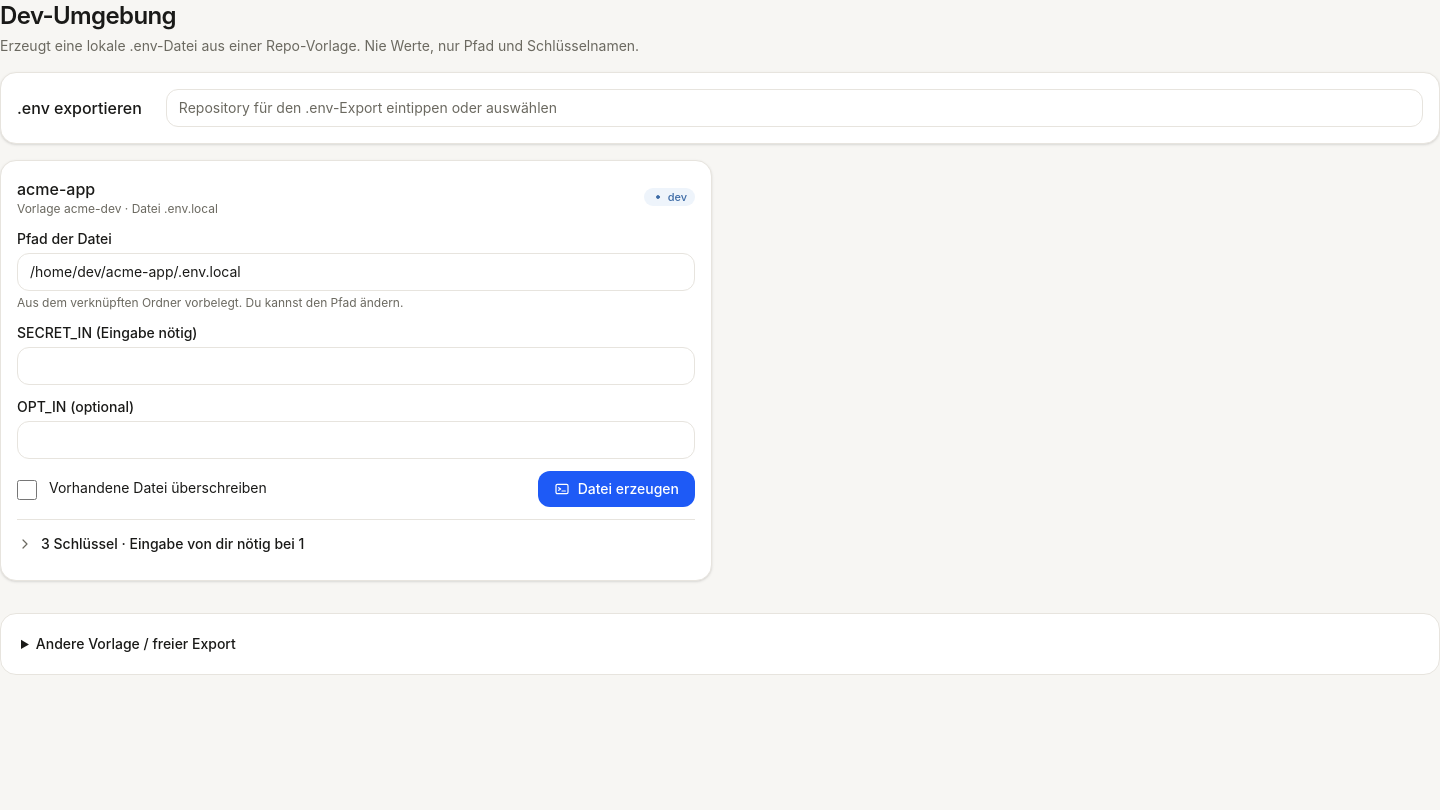
Test: Dev page: template card › writes the file to the linked folder, asking only for prompts and reporting the result
Type "value-for-tests" into the password field labelled "SECRET_IN (Eingabe nötig)" at (356, 366), box [17,347,695,385]
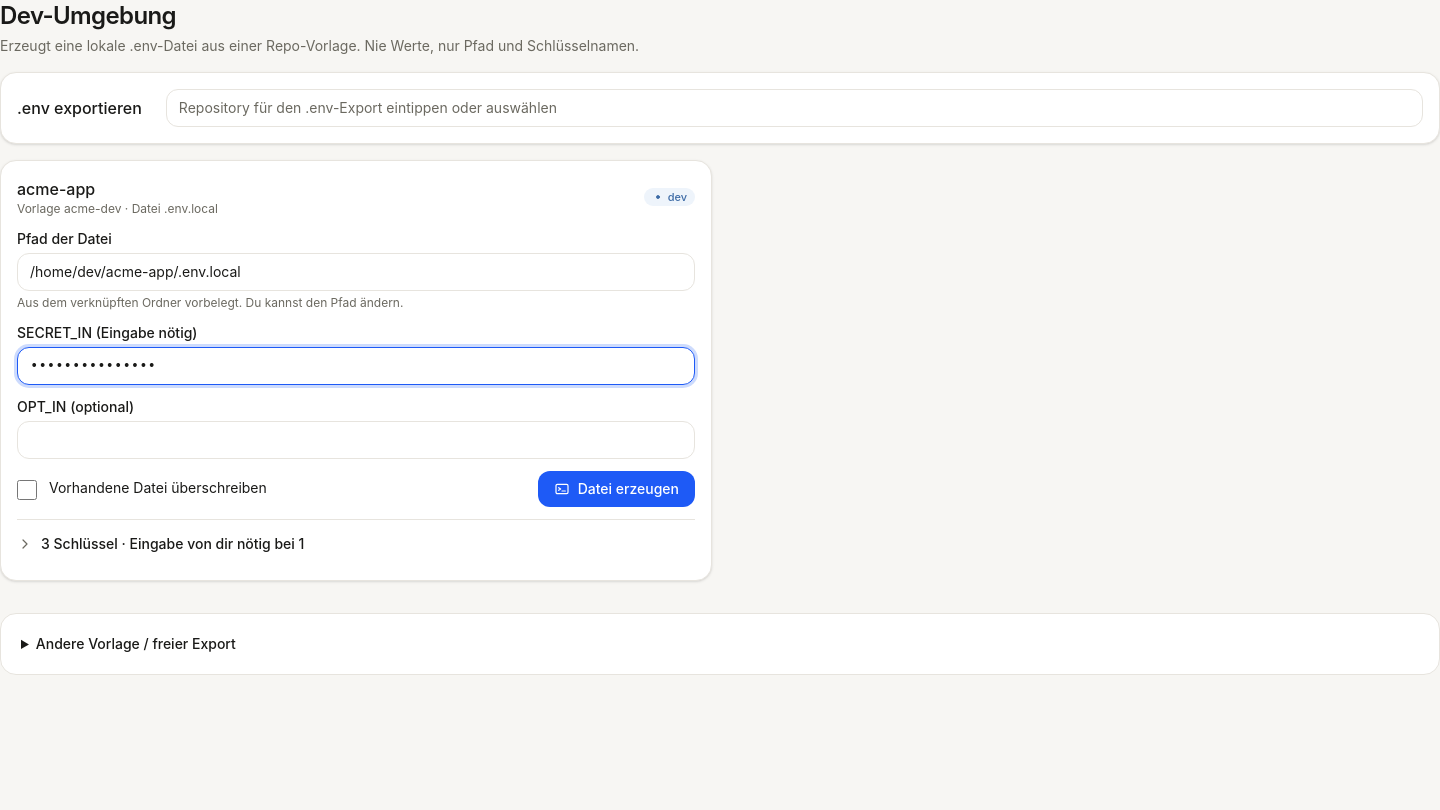
Click the checkbox labelled "Vorhandene Datei überschreiben" at (27, 490), box [17,480,37,500]
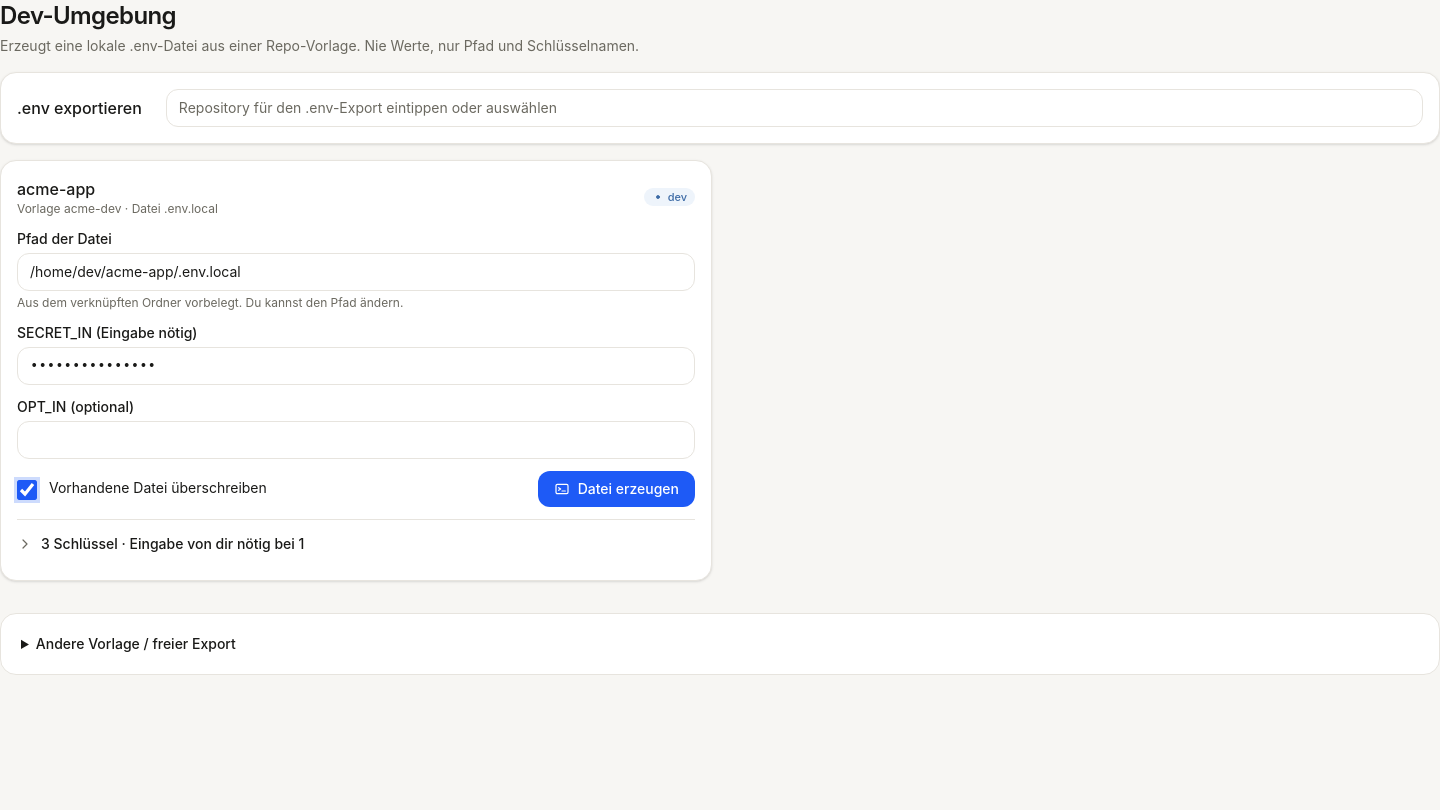
Click the button "Datei erzeugen" at (616, 489), box [538,471,695,507]
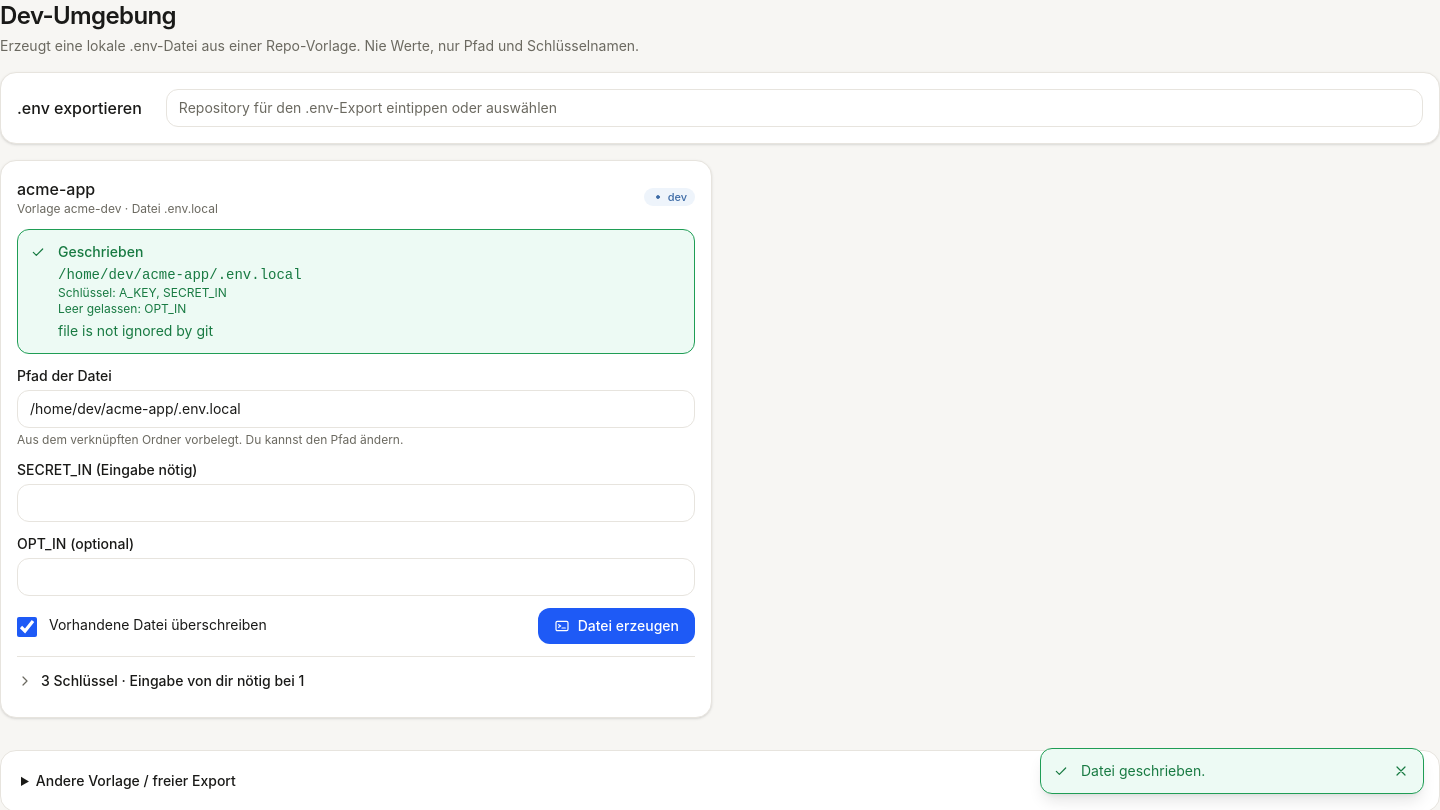
expect the text "Datei geschrieben." is shown: met, box [1081,762,1205,779]
